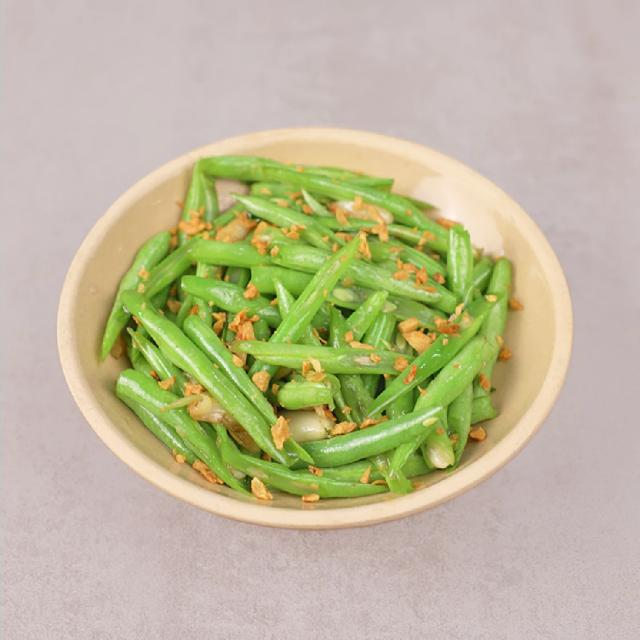dau que: (97, 155, 523, 504)
